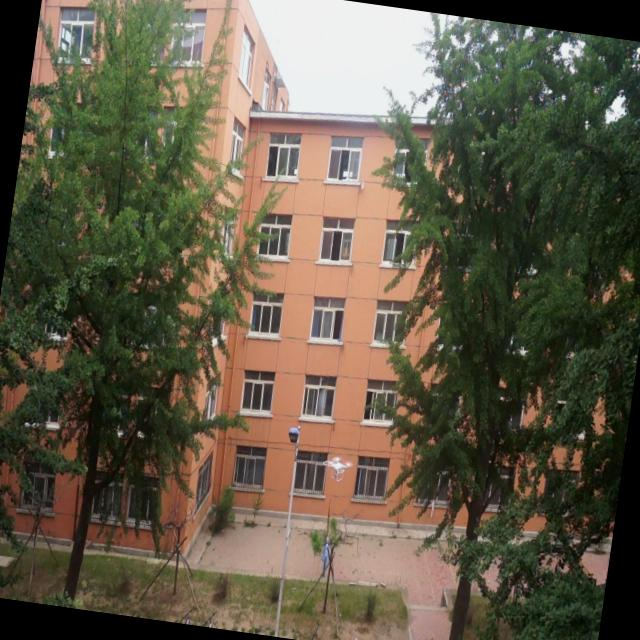drone: (318, 452, 356, 488)
